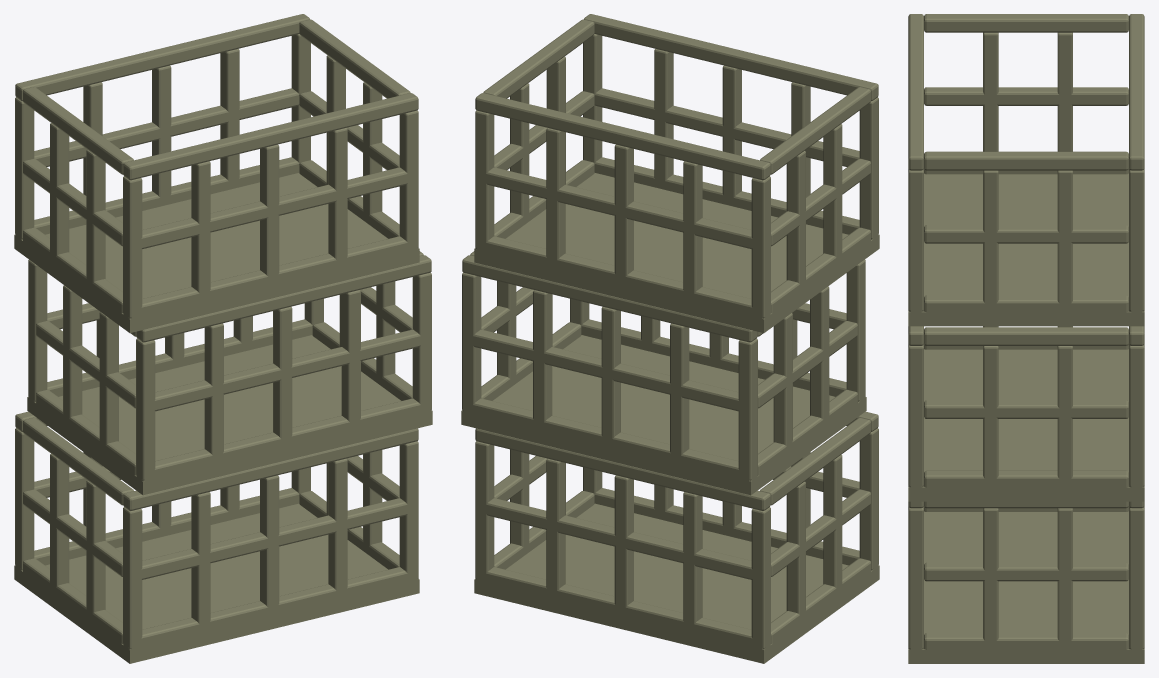
File: MS_SP_21_PlasticCrateStack.glb
3 views of the same model, side by side, from view 1: azimuth 30°, elevation 25°; view 2: azimuth 150°, elevation 25°; view 3: azimuth 270°, elevation 25° (orthographic). The views are drawn at different scales.
Parts seen in each view (by area): view 1: CrateFloor.002, CrateFloor, CrateFloor.001; view 2: CrateFloor.002, CrateFloor, CrateFloor.001; view 3: CrateFloor.002, CrateFloor.001, CrateFloor.
Boxes of the visible parts, left/top/right/bottom form: CrateFloor.002: left=14, top=14, right=419, bottom=332; CrateFloor: left=14, top=411, right=419, bottom=663; CrateFloor.001: left=27, top=251, right=432, bottom=495; CrateFloor.002: left=474, top=14, right=879, bottom=332; CrateFloor: left=474, top=411, right=879, bottom=663; CrateFloor.001: left=461, top=251, right=866, bottom=495; CrateFloor.002: left=908, top=14, right=1144, bottom=326; CrateFloor.001: left=908, top=326, right=1144, bottom=501; CrateFloor: left=908, top=501, right=1144, bottom=663.
Bounding box in the file's own units: 0.575 × 0.9 × 0.38.
